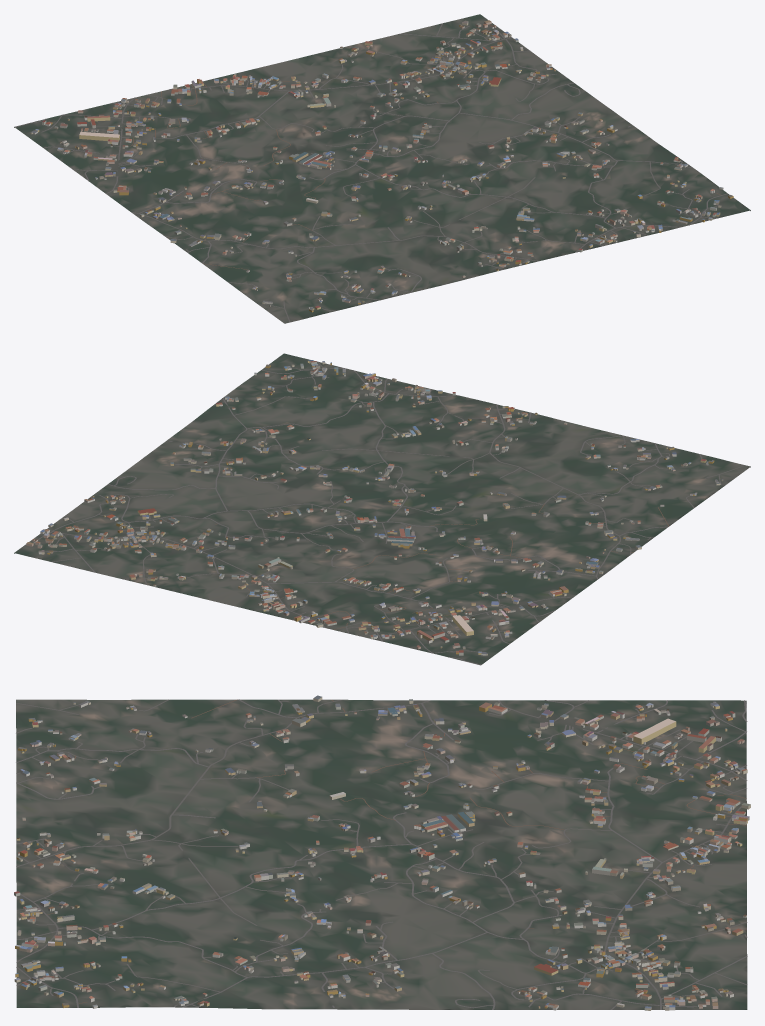
The picture shows the model from 3 angles, top to bottom: view 1: azimuth 30°, elevation 25°; view 2: azimuth 150°, elevation 25°; view 3: azimuth 270°, elevation 25°; orthographic projection. The views are drawn at different scales.
Visible parts, largest first — view 1: ground, buildings, roads; view 2: ground, buildings, roads; view 3: ground, buildings, roads.
Boxes of the visible parts, x1=… form: ground: x1=14, y1=14, x2=750, y2=323; buildings: x1=30, y1=20, x2=733, y2=312; roads: x1=15, y1=23, x2=727, y2=322; ground: x1=14, y1=353, x2=750, y2=665; buildings: x1=26, y1=360, x2=723, y2=655; roads: x1=38, y1=361, x2=745, y2=664; ground: x1=16, y1=699, x2=747, y2=1009; buildings: x1=14, y1=695, x2=750, y2=1010; roads: x1=16, y1=699, x2=747, y2=1009.
Bounding box in the file's own units: 1408 × 19.47 × 1414.
